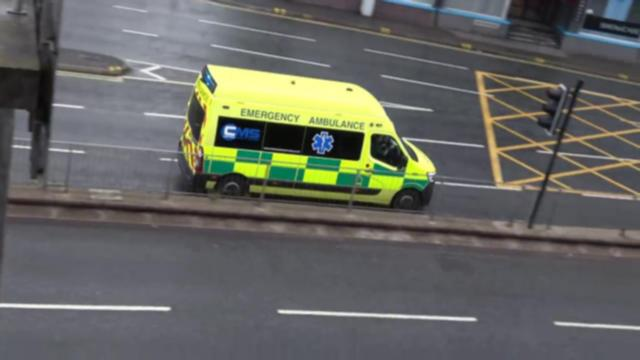police: (180, 62, 439, 212)
